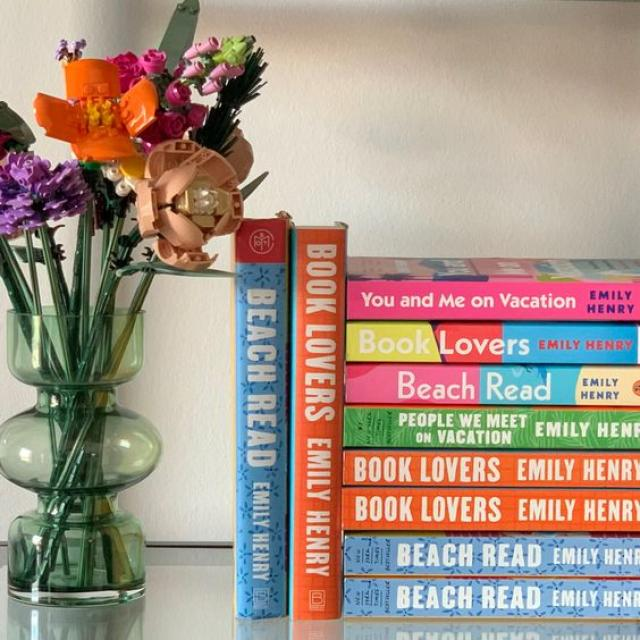book: (290, 227, 345, 620), (235, 220, 288, 618), (342, 487, 639, 531), (348, 277, 639, 321), (343, 406, 639, 449), (346, 363, 639, 405), (347, 322, 639, 364), (345, 534, 639, 575), (344, 580, 639, 617), (343, 452, 639, 487)
flowers: (0, 0, 266, 604)
